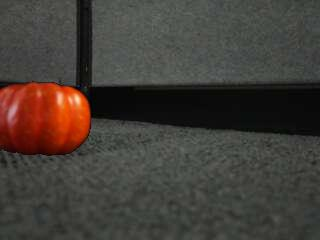Pumpkin: (0, 82, 92, 155)
